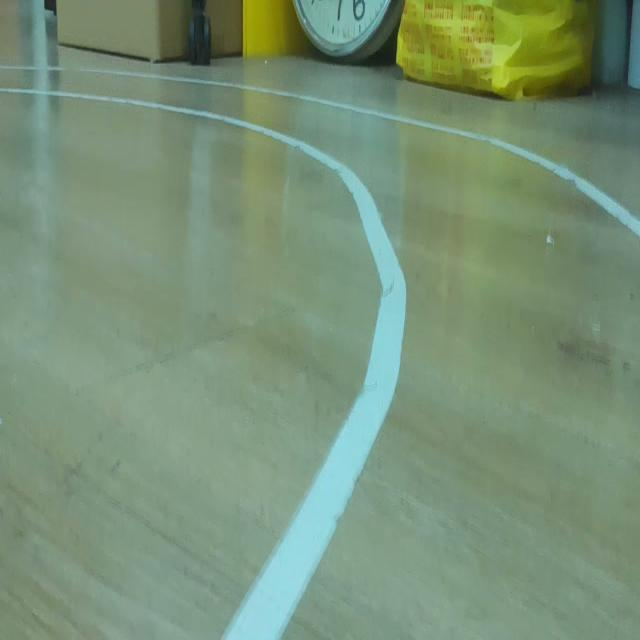Road-Area: (1, 69, 640, 638)
